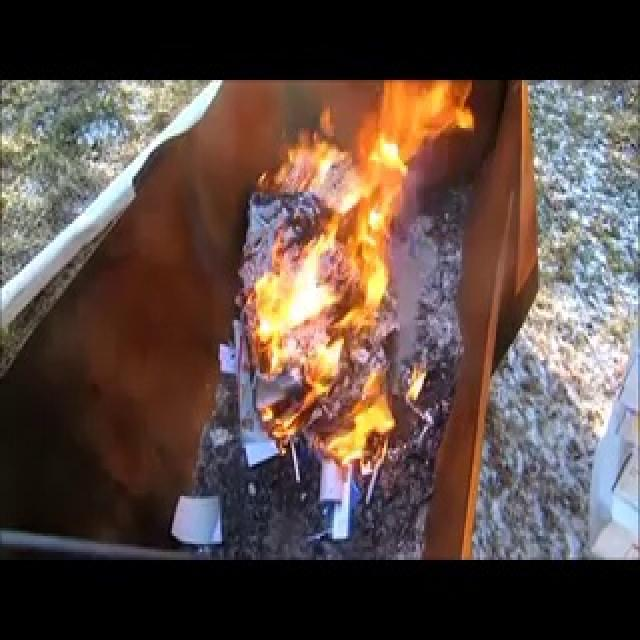Fire: (238, 78, 456, 466)
